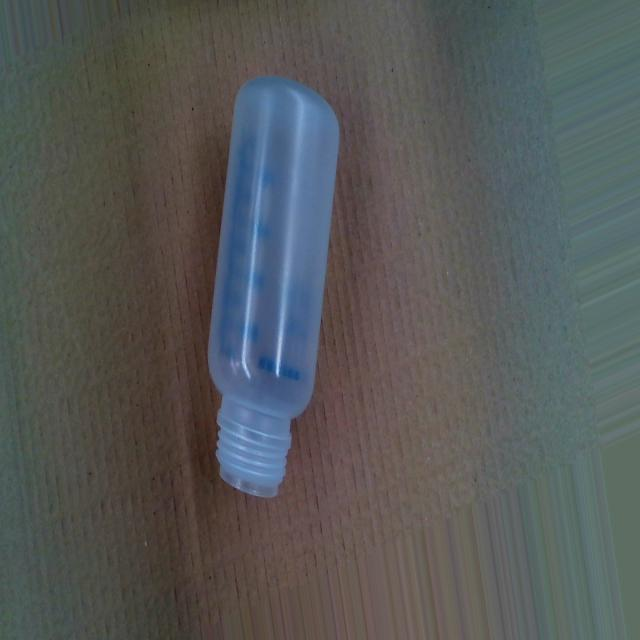bottle: (206, 74, 342, 498)
